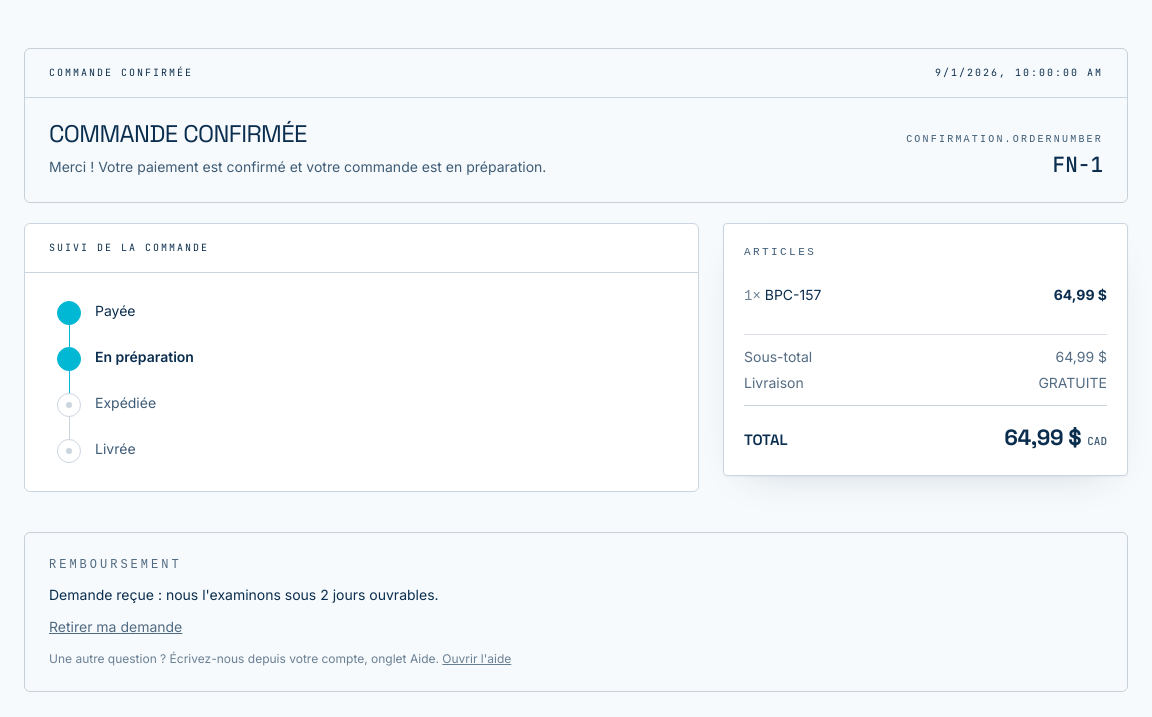
Test: le client retire sa demande posee par erreur
Click the button with test id "refund-withdraw": (116,627) [49,617,182,637]
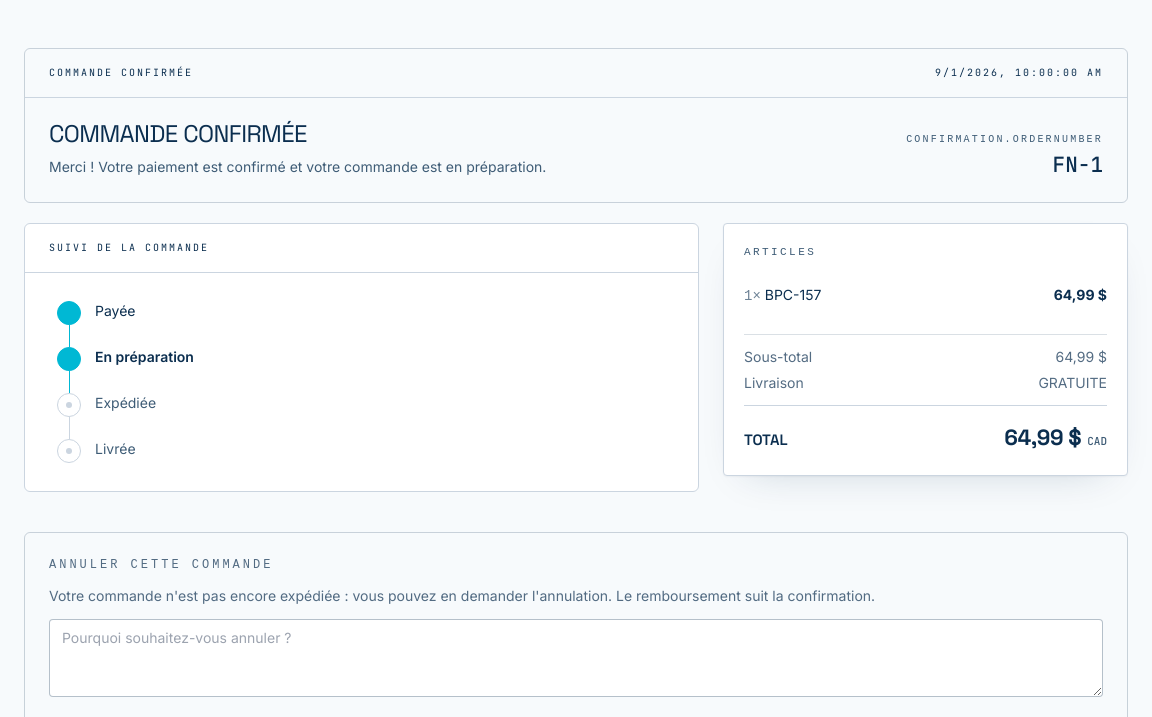
Now the text box with test id "refund-reason" is shown, box [49,619,1103,697]
